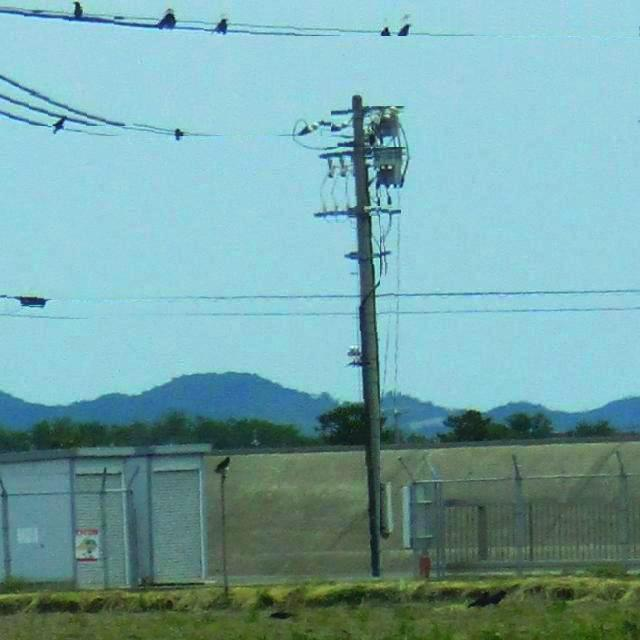crossarm: (319, 147, 406, 160), (319, 106, 405, 118), (314, 206, 402, 217)
pole: (351, 94, 380, 580)
wire: (1, 74, 259, 136), (0, 6, 429, 36), (0, 108, 300, 139), (0, 93, 122, 126), (390, 188, 401, 410), (1, 312, 180, 319), (0, 295, 145, 300), (314, 135, 331, 136)
